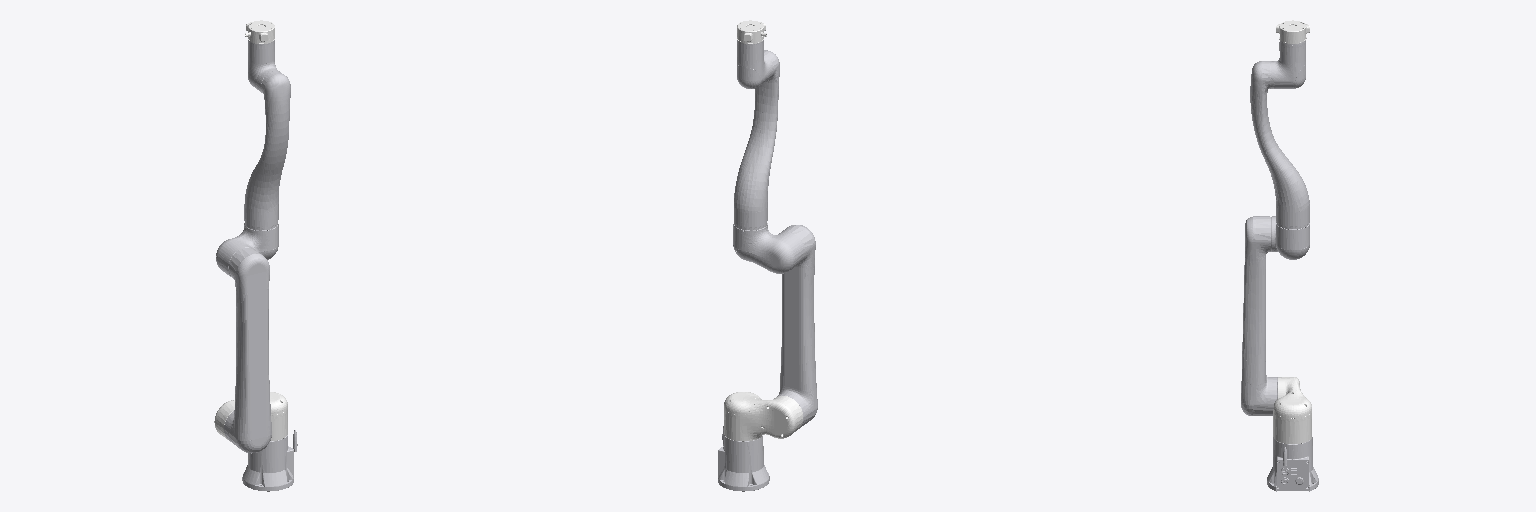
robot.urdf — rml_63_description:
<?xml version="1.0" encoding="utf-8"?>
<!-- This URDF was automatically created by SolidWorks to URDF Exporter! Originally created by [author] ([email redacted]) 
     Commit Version: 1.6.0-1-g15f4949  Build Version: 1.6.7594.29634
     For more information, please see http://wiki.ros.org/sw_urdf_exporter -->
<robot
  name="rml_63_description">
  <link
    name="base_link">
    <inertial>
      <origin
        xyz="0.0002051 -8.259E-05 0.043092"
        rpy="0 0 0" />
      <mass
        value="1.6314" />
      <inertia
        ixx="0.0022252"
        ixy="7.9005E-06"
        ixz="-7.7558E-05"
        iyy="0.0022156"
        iyz="5.9846E-06"
        izz="0.0018513" />
    </inertial>
    <visual>
      <origin
        xyz="0 0 0"
        rpy="0 0 0" />
      <geometry>
        <mesh
          filename="package://rm_description/meshes/RML63/base_link.STL" />
      </geometry>
      <material
        name="">
        <color
          rgba="0.86667 0.86667 0.8902 1" />
      </material>
    </visual>
    <collision>
      <origin
        xyz="0 0 0"
        rpy="0 0 0" />
      <geometry>
        <mesh
          filename="package://rm_description/meshes/RML63/base_link.STL" />
      </geometry>
    </collision>
  </link>
  <link
    name="link1">
    <inertial>
      <origin
        xyz="-0.030909 -0.0013023 -0.0053121"
        rpy="0 0 0" />
      <mass
        value="1.7668" />
      <inertia
        ixx="0.0014534"
        ixy="-0.00017578"
        ixz="0.0002802"
        iyy="0.0043772"
        iyz="1.7209E-05"
        izz="0.0040911" />
    </inertial>
    <visual>
      <origin
        xyz="0 0 0"
        rpy="0 0 0" />
      <geometry>
        <mesh
          filename="package://rm_description/meshes/RML63/link1.STL" />
      </geometry>
      <material
        name="">
        <color
          rgba="1 1 1 1" />
      </material>
    </visual>
    <collision>
      <origin
        xyz="0 0 0"
        rpy="0 0 0" />
      <geometry>
        <mesh
          filename="package://rm_description/meshes/RML63/link1.STL" />
      </geometry>
    </collision>
  </link>
  <joint
    name="joint1"
    type="revolute">
    <origin
      xyz="0 0 0.1625"
      rpy="0 0 0" />
    <parent
      link="base_link" />
    <child
      link="link1" />
    <axis
      xyz="0 0 1" />
    <limit
      lower="-3.107"
      upper="3.107"
      effort="100"
      velocity="1" />
  </joint>
  <link
    name="link2">
    <inertial>
      <origin
        xyz="0.16852 9.8217E-07 -0.077258"
        rpy="0 0 0" />
      <mass
        value="4.3415" />
      <inertia
        ixx="0.0028306"
        ixy="3.3846E-07"
        ixz="4.0484E-06"
        iyy="0.075435"
        iyz="-3.3974E-08"
        izz="0.075923" />
    </inertial>
    <visual>
      <origin
        xyz="0 0 0"
        rpy="0 0 0" />
      <geometry>
        <mesh
          filename="package://rm_description/meshes/RML63/link2.STL" />
      </geometry>
      <material
        name="">
        <color
          rgba="0.86667 0.86667 0.8902 1" />
      </material>
    </visual>
    <collision>
      <origin
        xyz="0 0 0"
        rpy="0 0 0" />
      <geometry>
        <mesh
          filename="package://rm_description/meshes/RML63/link2.STL" />
      </geometry>
    </collision>
  </link>
  <joint
    name="joint2"
    type="revolute">
    <origin
      xyz="-0.086 0 0"
      rpy="-1.5708 -1.5708 0" />
    <parent
      link="link1" />
    <child
      link="link2" />
    <axis
      xyz="0 0 1" />
    <limit
      lower="-3.107"
      upper="3.107"
      effort="100"
      velocity="1" />
  </joint>
  <link
    name="link3">
    <inertial>
      <origin
        xyz="0.034488 -0.010948 -0.0056239"
        rpy="0 0 0" />
      <mass
        value="1.7286" />
      <inertia
        ixx="0.0014154"
        ixy="0.00068025"
        ixz="-0.00043307"
        iyy="0.0026049"
        iyz="0.00017201"
        izz="0.0028551" />
    </inertial>
    <visual>
      <origin
        xyz="0 0 0"
        rpy="0 0 0" />
      <geometry>
        <mesh
          filename="package://rm_description/meshes/RML63/link3.STL" />
      </geometry>
      <material
        name="">
        <color
          rgba="0.86667 0.86667 0.8902 1" />
      </material>
    </visual>
    <collision>
      <origin
        xyz="0 0 0"
        rpy="0 0 0" />
      <geometry>
        <mesh
          filename="package://rm_description/meshes/RML63/link3.STL" />
      </geometry>
    </collision>
  </link>
  <joint
    name="joint3"
    type="revolute">
    <origin
      xyz="0.38 0 0"
      rpy="0 0 1.5708" />
    <parent
      link="link2" />
    <child
      link="link3" />
    <axis
      xyz="0 0 1" />
    <limit
      lower="-3.107"
      upper="2.531"
      effort="100"
      velocity="1" />
  </joint>
  <link
    name="link4">
    <inertial>
      <origin
        xyz="4.1778E-07 -0.030483 -0.19739"
        rpy="0 0 0" />
      <mass
        value="2.4734" />
      <inertia
        ixx="0.02602"
        ixy="-1.1659E-07"
        ixz="3.1323E-07"
        iyy="0.024375"
        iyz="0.0061661"
        izz="0.002958" />
    </inertial>
    <visual>
      <origin
        xyz="0 0 0"
        rpy="0 0 0" />
      <geometry>
        <mesh
          filename="package://rm_description/meshes/RML63/link4.STL" />
      </geometry>
      <material
        name="">
        <color
          rgba="0.86667 0.86667 0.8902 1" />
      </material>
    </visual>
    <collision>
      <origin
        xyz="0 0 0"
        rpy="0 0 0" />
      <geometry>
        <mesh
          filename="package://rm_description/meshes/RML63/link4.STL" />
      </geometry>
    </collision>
  </link>
  <joint
    name="joint4"
    type="revolute">
    <origin
      xyz="0.069 -0.405 0"
      rpy="1.5708 0 0" />
    <parent
      link="link3" />
    <child
      link="link4" />
    <axis
      xyz="0 0 1" />
    <limit
      lower="-3.107"
      upper="3.107"
      effort="100"
      velocity="1" />
  </joint>
  <link
    name="link5">
    <inertial>
      <origin
        xyz="5.2596E-06 0.025125 -0.0072574"
        rpy="0 0 0" />
      <mass
        value="0.93162" />
      <inertia
        ixx="0.0012563"
        ixy="-1.8115E-08"
        ixz="-2.4669E-09"
        iyy="0.0005379"
        iyz="-0.00017339"
        izz="0.0011134" />
    </inertial>
    <visual>
      <origin
        xyz="0 0 0"
        rpy="0 0 0" />
      <geometry>
        <mesh
          filename="package://rm_description/meshes/RML63/link5.STL" />
      </geometry>
      <material
        name="">
        <color
          rgba="0.86667 0.86667 0.8902 1" />
      </material>
    </visual>
    <collision>
      <origin
        xyz="0 0 0"
        rpy="0 0 0" />
      <geometry>
        <mesh
          filename="package://rm_description/meshes/RML63/link5.STL" />
      </geometry>
    </collision>
  </link>
  <joint
    name="joint5"
    type="revolute">
    <origin
      xyz="0 0 0"
      rpy="1.5708 0 3.1416" />
    <parent
      link="link4" />
    <child
      link="link5" />
    <axis
      xyz="0 0 1" />
    <limit
      lower="-3.107"
      upper="3.107"
      effort="100"
      velocity="1" />
  </joint>
  <link
    name="link6">
    <inertial>
      <origin
        xyz="-0.00092265 9.4391E-05 -0.012705"
        rpy="0 0 0" />
      <mass
        value="0.065037" />
      <inertia
        ixx="2.1144E-05"
        ixy="-2.2803E-08"
        ixz="2.5415E-08"
        iyy="1.8109E-05"
        iyz="1.0256E-08"
        izz="3.19E-05" />
    </inertial>
    <visual>
      <origin
        xyz="0 0 0"
        rpy="0 0 0" />
      <geometry>
        <mesh
          filename="package://rm_description/meshes/RML63/link6.STL" />
      </geometry>
      <material
        name="">
        <color
          rgba="1 1 1 1" />
      </material>
    </visual>
    <collision>
      <origin
        xyz="0 0 0"
        rpy="0 0 0" />
      <geometry>
        <mesh
          filename="package://rm_description/meshes/RML63/link6.STL" />
      </geometry>
    </collision>
  </link>
  <joint
    name="joint6"
    type="revolute">
    <origin
      xyz="-0.00010308 0.115 -0.00010734"
      rpy="1.5708 0 3.1416" />
    <parent
      link="link5" />
    <child
      link="link6" />
    <axis
      xyz="0 0 1" />
    <limit
      lower="-3.14"
      upper="3.14"
      effort="100"
      velocity="1" />
  </joint>
</robot>

--- Render facts (derived) ---
3 views of the same robot in one strip: view 1: azimuth 30°, elevation 25°; view 2: azimuth 150°, elevation 25°; view 3: azimuth 270°, elevation 25° (orthographic).
Model rml_63_description with 7 links and 6 joints (6 revolute), rooted at base_link, posed all joints at 0.
Visible links, largest first — view 1: link2, link4, base_link, link3, link1, link5, link6; view 2: link2, link4, link1, link3, base_link, link5, link6; view 3: link2, link4, link1, base_link, link5, link3, link6.
Link boxes in pixels (<box>): link2: <box>224,248,271,453</box>; link4: <box>244,71,290,230</box>; base_link: <box>242,430,297,491</box>; link3: <box>216,224,278,276</box>; link1: <box>214,392,287,440</box>; link5: <box>248,40,279,92</box>; link6: <box>245,20,274,43</box>; link2: <box>777,225,817,428</box>; link4: <box>734,50,779,230</box>; link1: <box>724,392,802,441</box>; link3: <box>733,224,804,273</box>; base_link: <box>718,426,769,491</box>; link5: <box>737,40,773,88</box>; link6: <box>737,20,766,43</box>; link2: <box>1241,216,1277,415</box>; link4: <box>1250,61,1309,229</box>; link1: <box>1273,377,1311,443</box>; base_link: <box>1267,437,1318,491</box>; link5: <box>1270,39,1305,88</box>; link3: <box>1271,216,1309,259</box>; link6: <box>1276,20,1309,43</box>.
Size in the robot's own frame: 0.1888 by 0.1647 by 1.06 metres.
7 mesh visuals loaded from 7 distinct referenced files (7 binary STL).